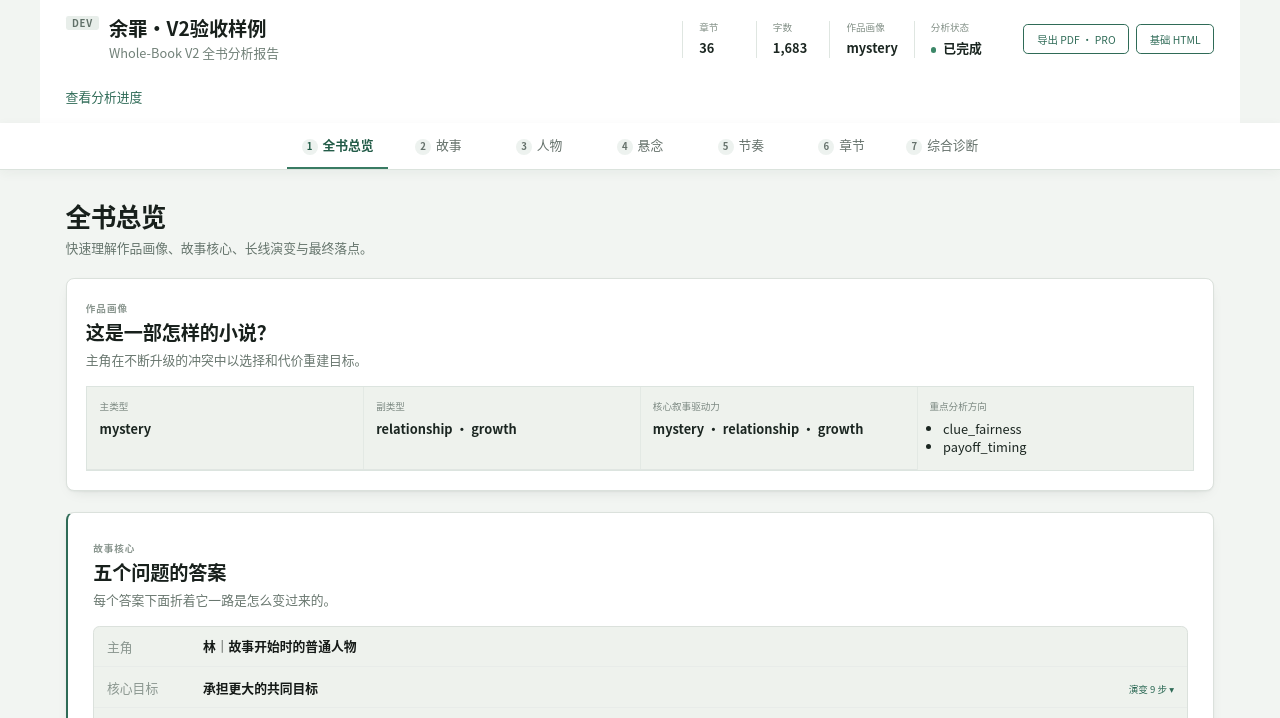
Whole-Book V2 static mock › renders pacing and chapters via shared ReportView
This screenshot has width=1280, height=718.
Click the button "5 节奏" at (741, 146), box [690,123,791,169]
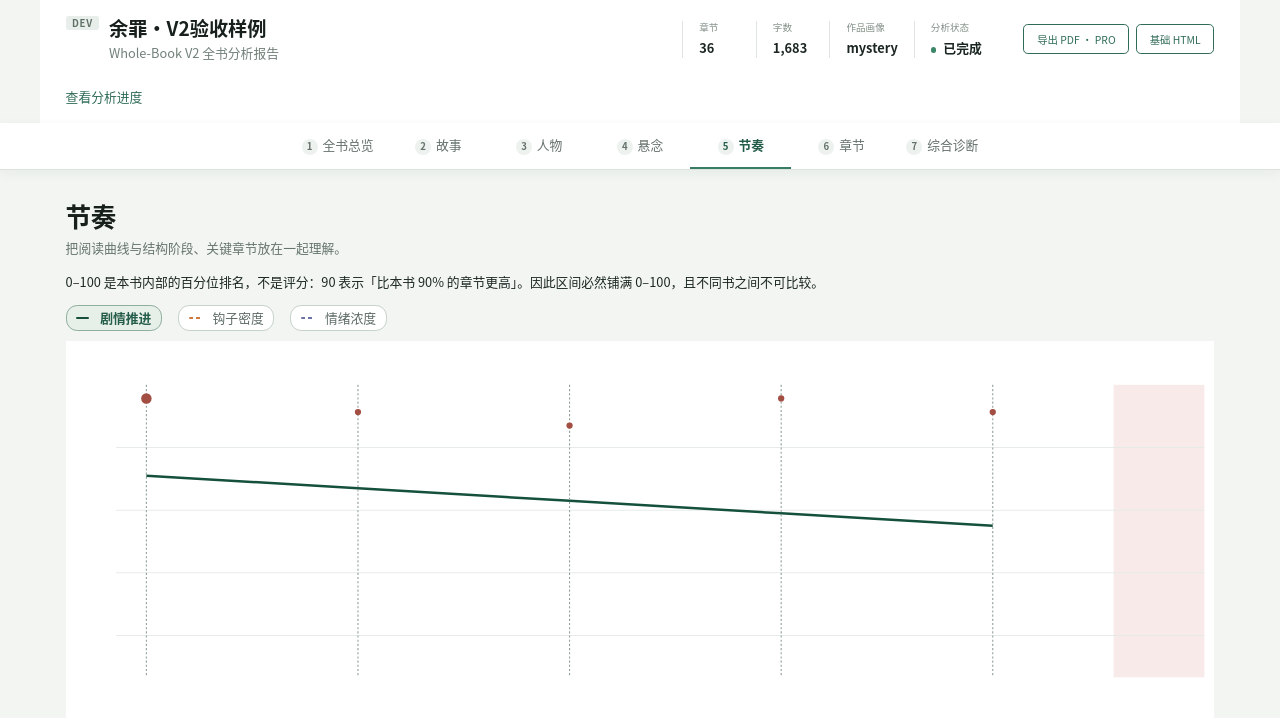
Click the button "6 章节" at (842, 146), box [791,123,892,169]
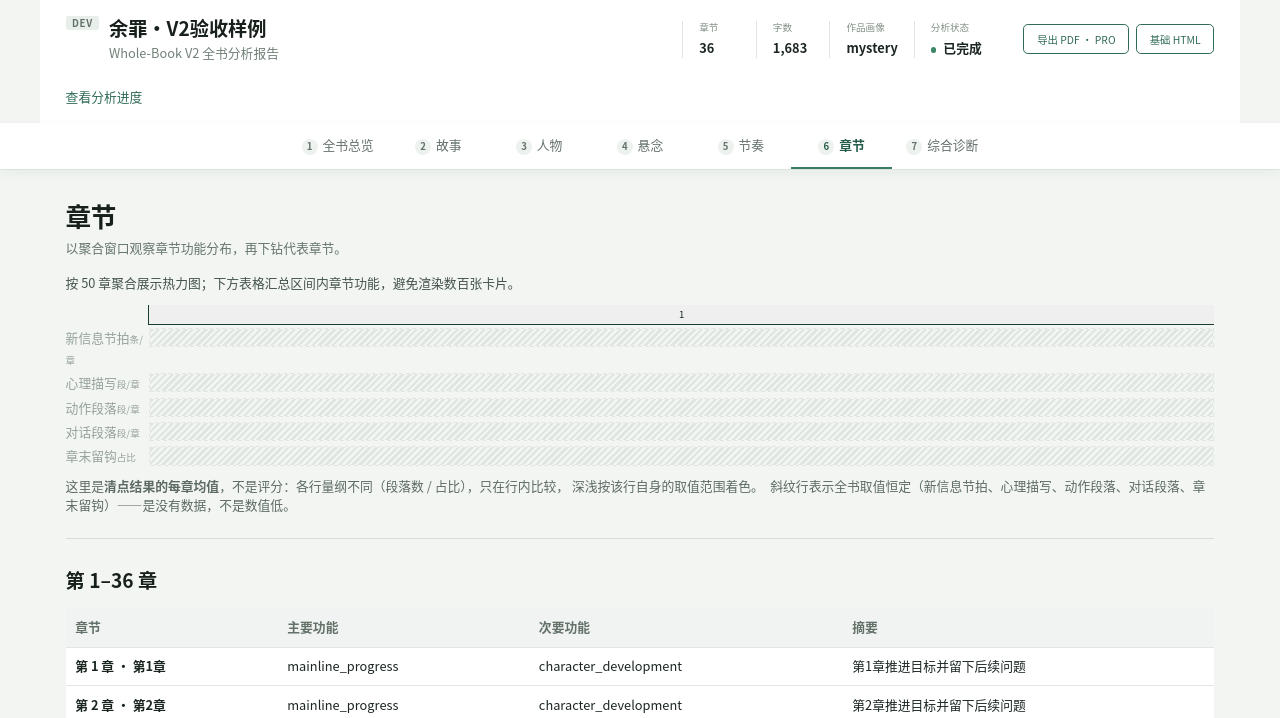
Result: the text "按 50 章聚合展示热力图；下方表格汇总区间内章节功能，避免渲染数百张卡片。" is shown at [66,273,521,292]
